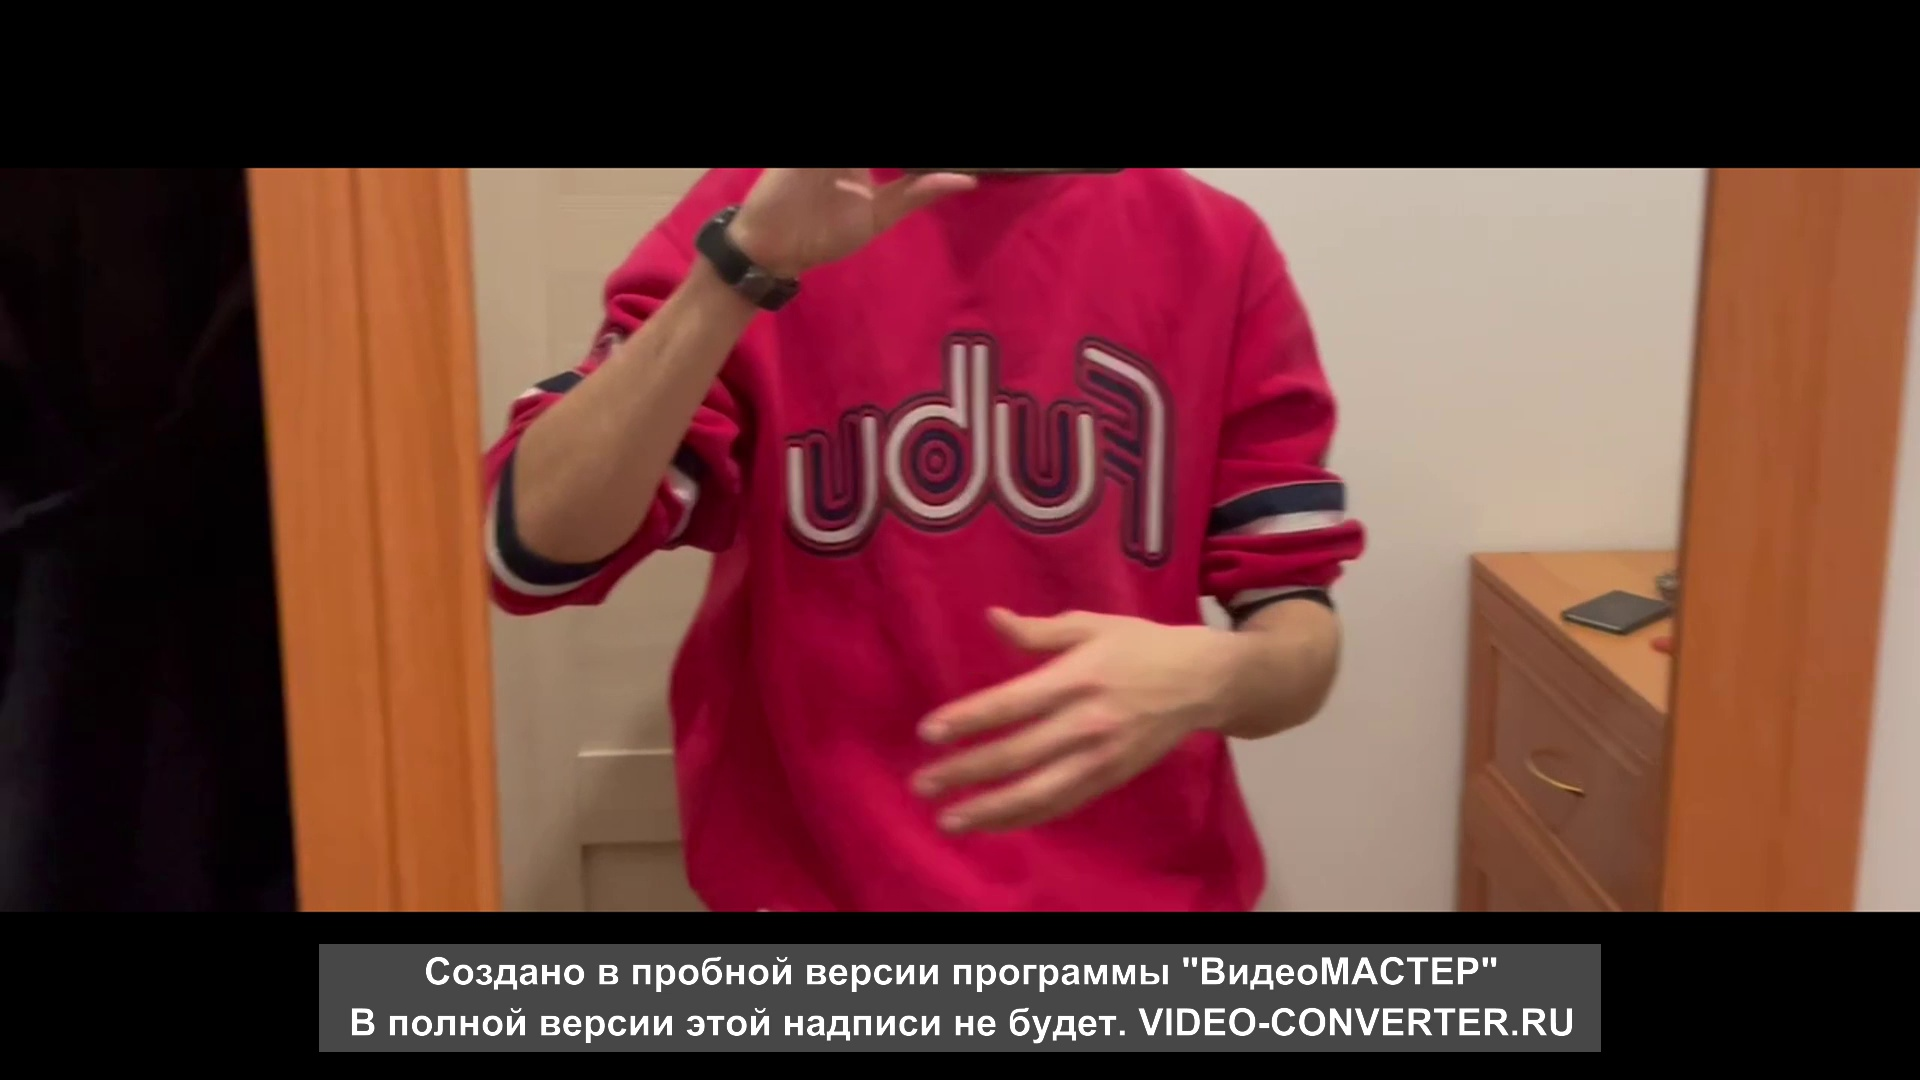Кисть: (906, 600, 1193, 837)
